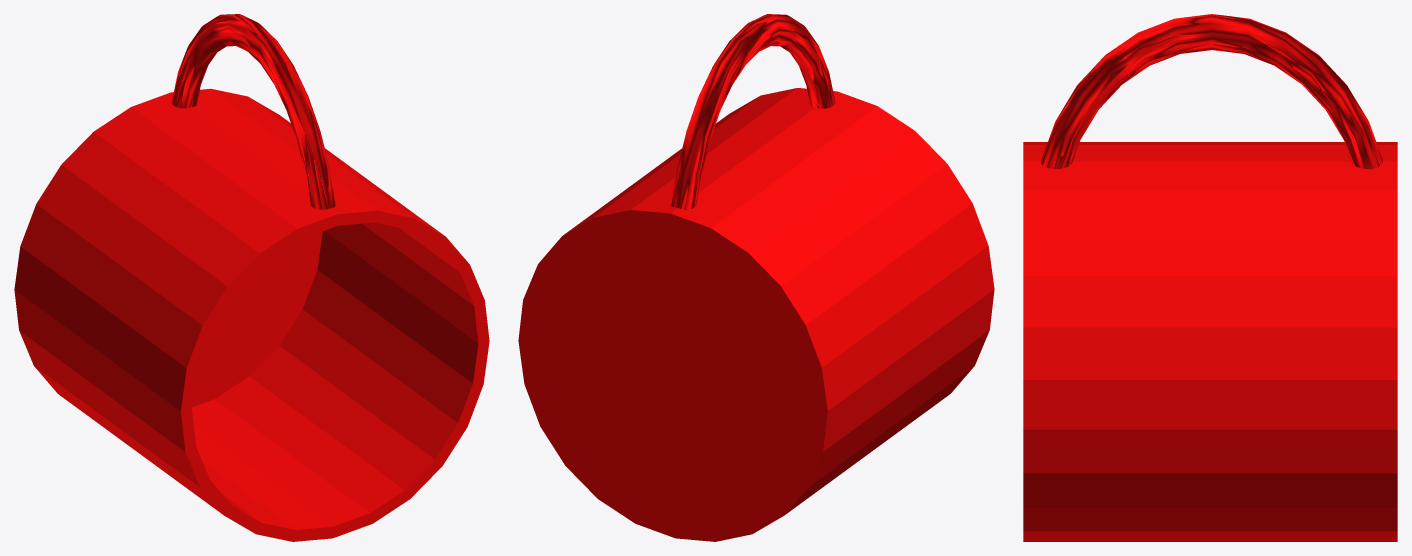
The model's file is model_align.obj.
The picture shows the model from 3 angles, left to right: view 1: azimuth 30°, elevation 25°; view 2: azimuth 150°, elevation 25°; view 3: azimuth 270°, elevation 25°; orthographic projection. The views are drawn at different scales.
Size of the model in its own units: 0.0908 by 0.1274 by 0.0848.
